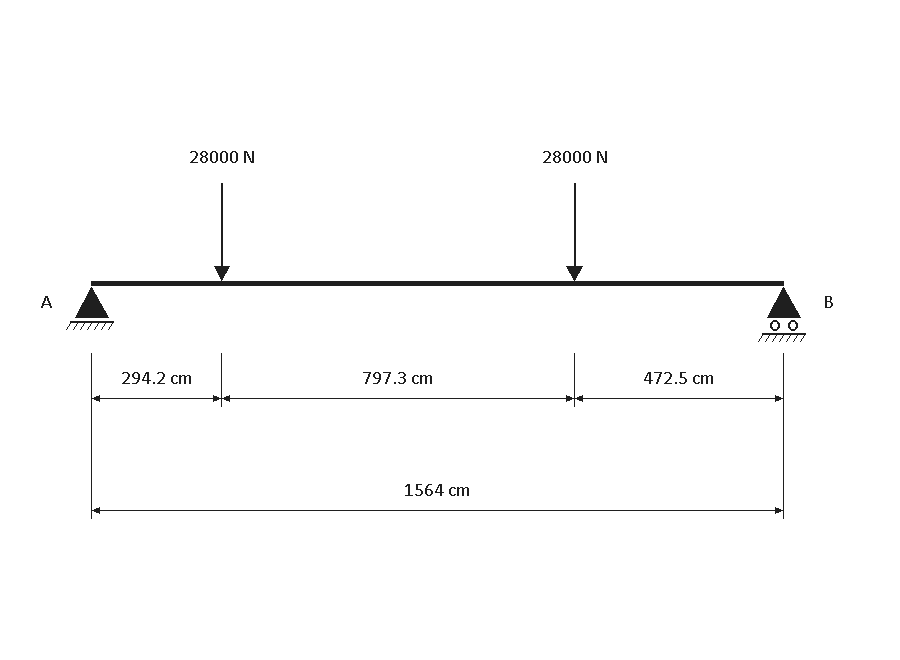pin_support: (66, 287, 114, 330)
point_load: (566, 183, 583, 281), (214, 183, 230, 281)
roller_support: (758, 287, 806, 342)
